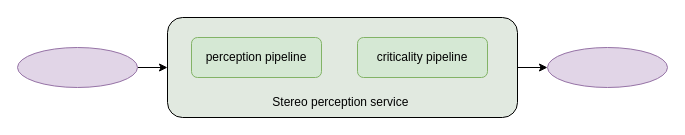
Image size: 685x135. Some labels were removed from this diagram. The shapes that lost their labels are listed below. From the top down, each one's centre as x and y in pixels, then its label:
[77,67]: stereo image pairs
[607,67]: list of detected objects
